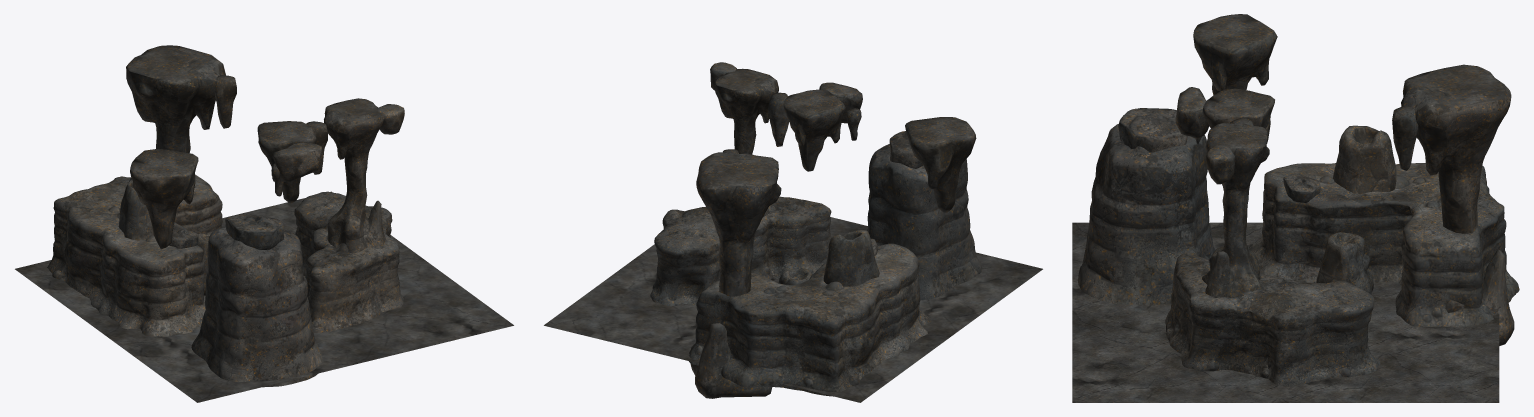
File: cave_rocks.glb
The picture shows the model from 3 angles, left to right: view 1: azimuth 30°, elevation 25°; view 2: azimuth 150°, elevation 25°; view 3: azimuth 270°, elevation 25°; orthographic projection. The views are drawn at different scales.
Parts seen in each view (by area): view 1: floor, cliff3, cliff1, cliff2, pilar1_1, pilar1, pilar2_1, pilar2, pilar7, pilar3, pilar4_1, pilar5 (+2 smaller); view 2: cliff3, floor, cliff1, cliff2, pilar1_1, pilar2_1, pilar1, pilar2, pilar3, pilar4, pilar7; view 3: floor, cliff3, cliff1, cliff2, pilar1_1, pilar1, pilar2_1, pilar3, pilar6, pilar2, pilar7, pilar4_1 (+2 smaller).
Boxes of the visible parts, <box> form: floor: <box>15,191,513,402</box>; cliff3: <box>47,174,222,336</box>; cliff1: <box>191,214,322,387</box>; cliff2: <box>294,191,403,332</box>; pilar1_1: <box>126,45,225,153</box>; pilar1: <box>324,98,386,253</box>; pilar2_1: <box>130,149,198,249</box>; pilar2: <box>257,121,316,203</box>; pilar7: <box>272,142,321,181</box>; pilar3: <box>118,178,153,240</box>; pilar4_1: <box>215,75,236,128</box>; pilar5: <box>377,104,404,134</box>; cliff3: <box>689,243,931,396</box>; floor: <box>544,217,1042,402</box>; cliff1: <box>867,131,982,300</box>; cliff2: <box>650,196,831,306</box>; pilar1_1: <box>690,152,781,398</box>; pilar2_1: <box>905,117,976,212</box>; pilar1: <box>714,68,778,216</box>; pilar2: <box>783,89,845,171</box>; pilar3: <box>823,230,879,286</box>; pilar4: <box>768,92,789,146</box>; pilar7: <box>819,82,862,123</box>; floor: <box>1072,222,1499,402</box>; cliff3: <box>1249,163,1519,327</box>; cliff1: <box>1078,108,1215,304</box>; cliff2: <box>1165,252,1380,386</box>; pilar1_1: <box>1401,64,1514,345</box>; pilar1: <box>1202,123,1269,297</box>; pilar2_1: <box>1193,14,1277,95</box>; pilar3: <box>1333,125,1396,194</box>; pilar6: <box>1316,232,1373,294</box>; pilar2: <box>1202,88,1274,143</box>; pilar7: <box>1175,87,1209,138</box>; pilar4_1: <box>1392,106,1418,170</box>.
Size of the model in its own units: 8 by 5.27 by 8.38.
Materials: 3 (3 with a texture image).
